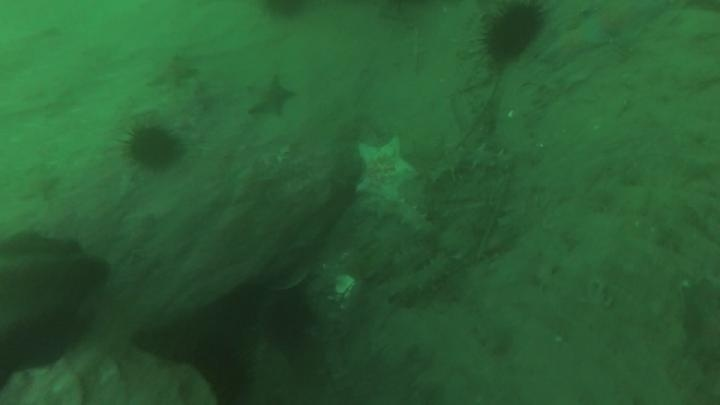echinus: (1, 304, 85, 383), (477, 2, 548, 66), (189, 339, 255, 404), (261, 287, 317, 351), (122, 121, 185, 173), (61, 255, 111, 298), (255, 1, 313, 24)
holothurian: (386, 250, 458, 308), (424, 141, 515, 184), (359, 189, 437, 239)
starfish: (350, 133, 419, 210), (540, 15, 610, 69), (244, 72, 298, 121), (146, 51, 201, 92), (13, 162, 62, 205)
